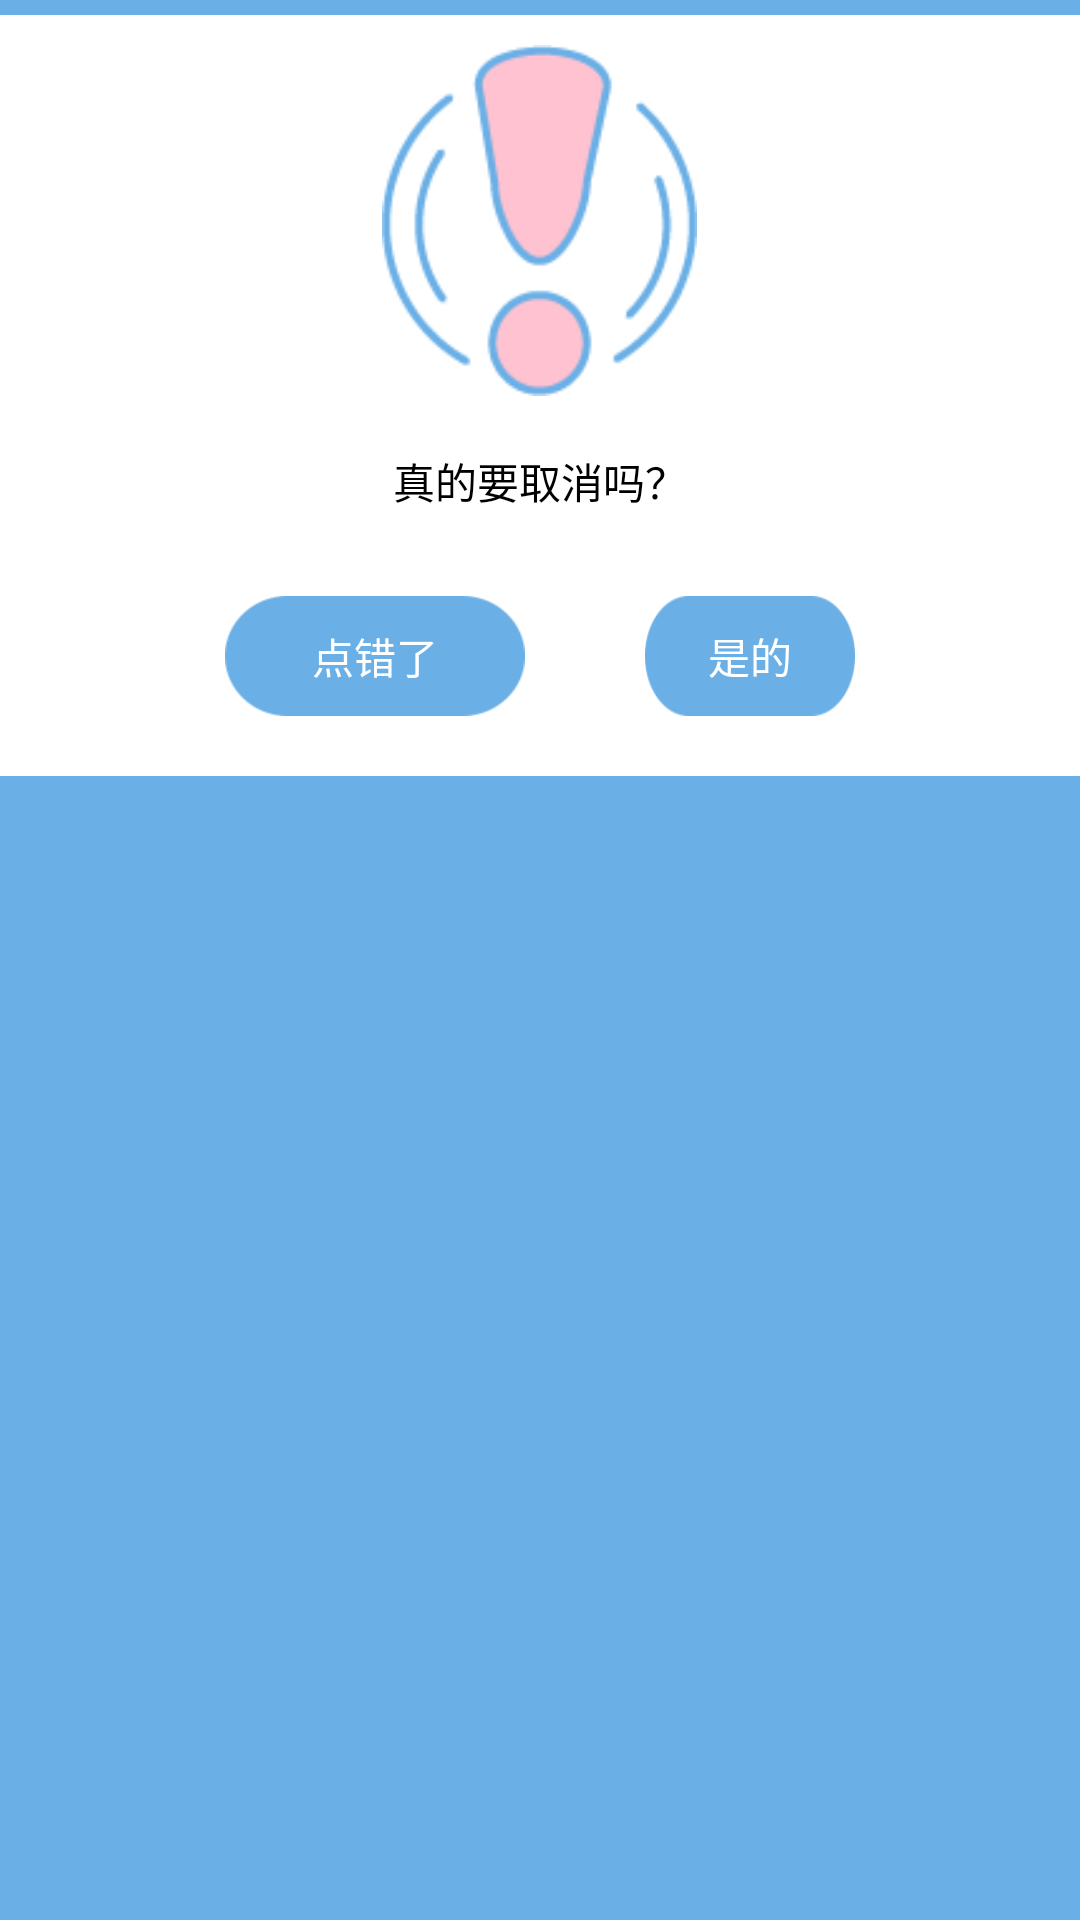

Icon bounding boxes for this 1080×1920 phone screenshot, format [x1,y1,x2,y2]:
iconwarning: [382,45,697,396]
